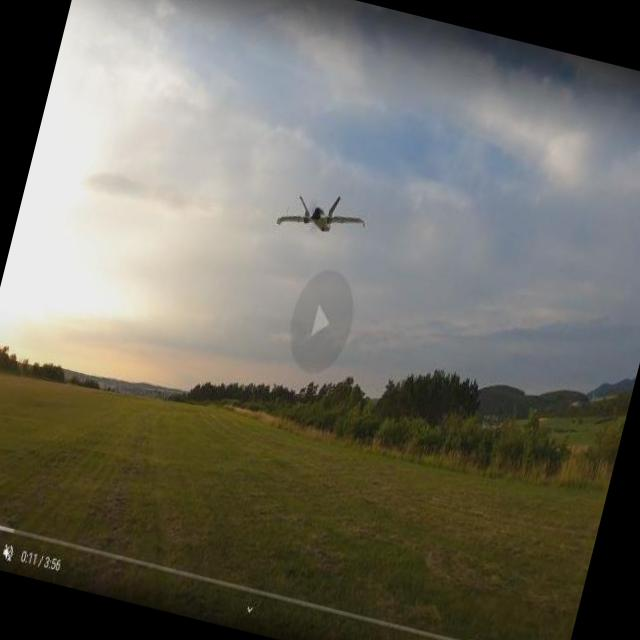UAV: (241, 162, 417, 270)
